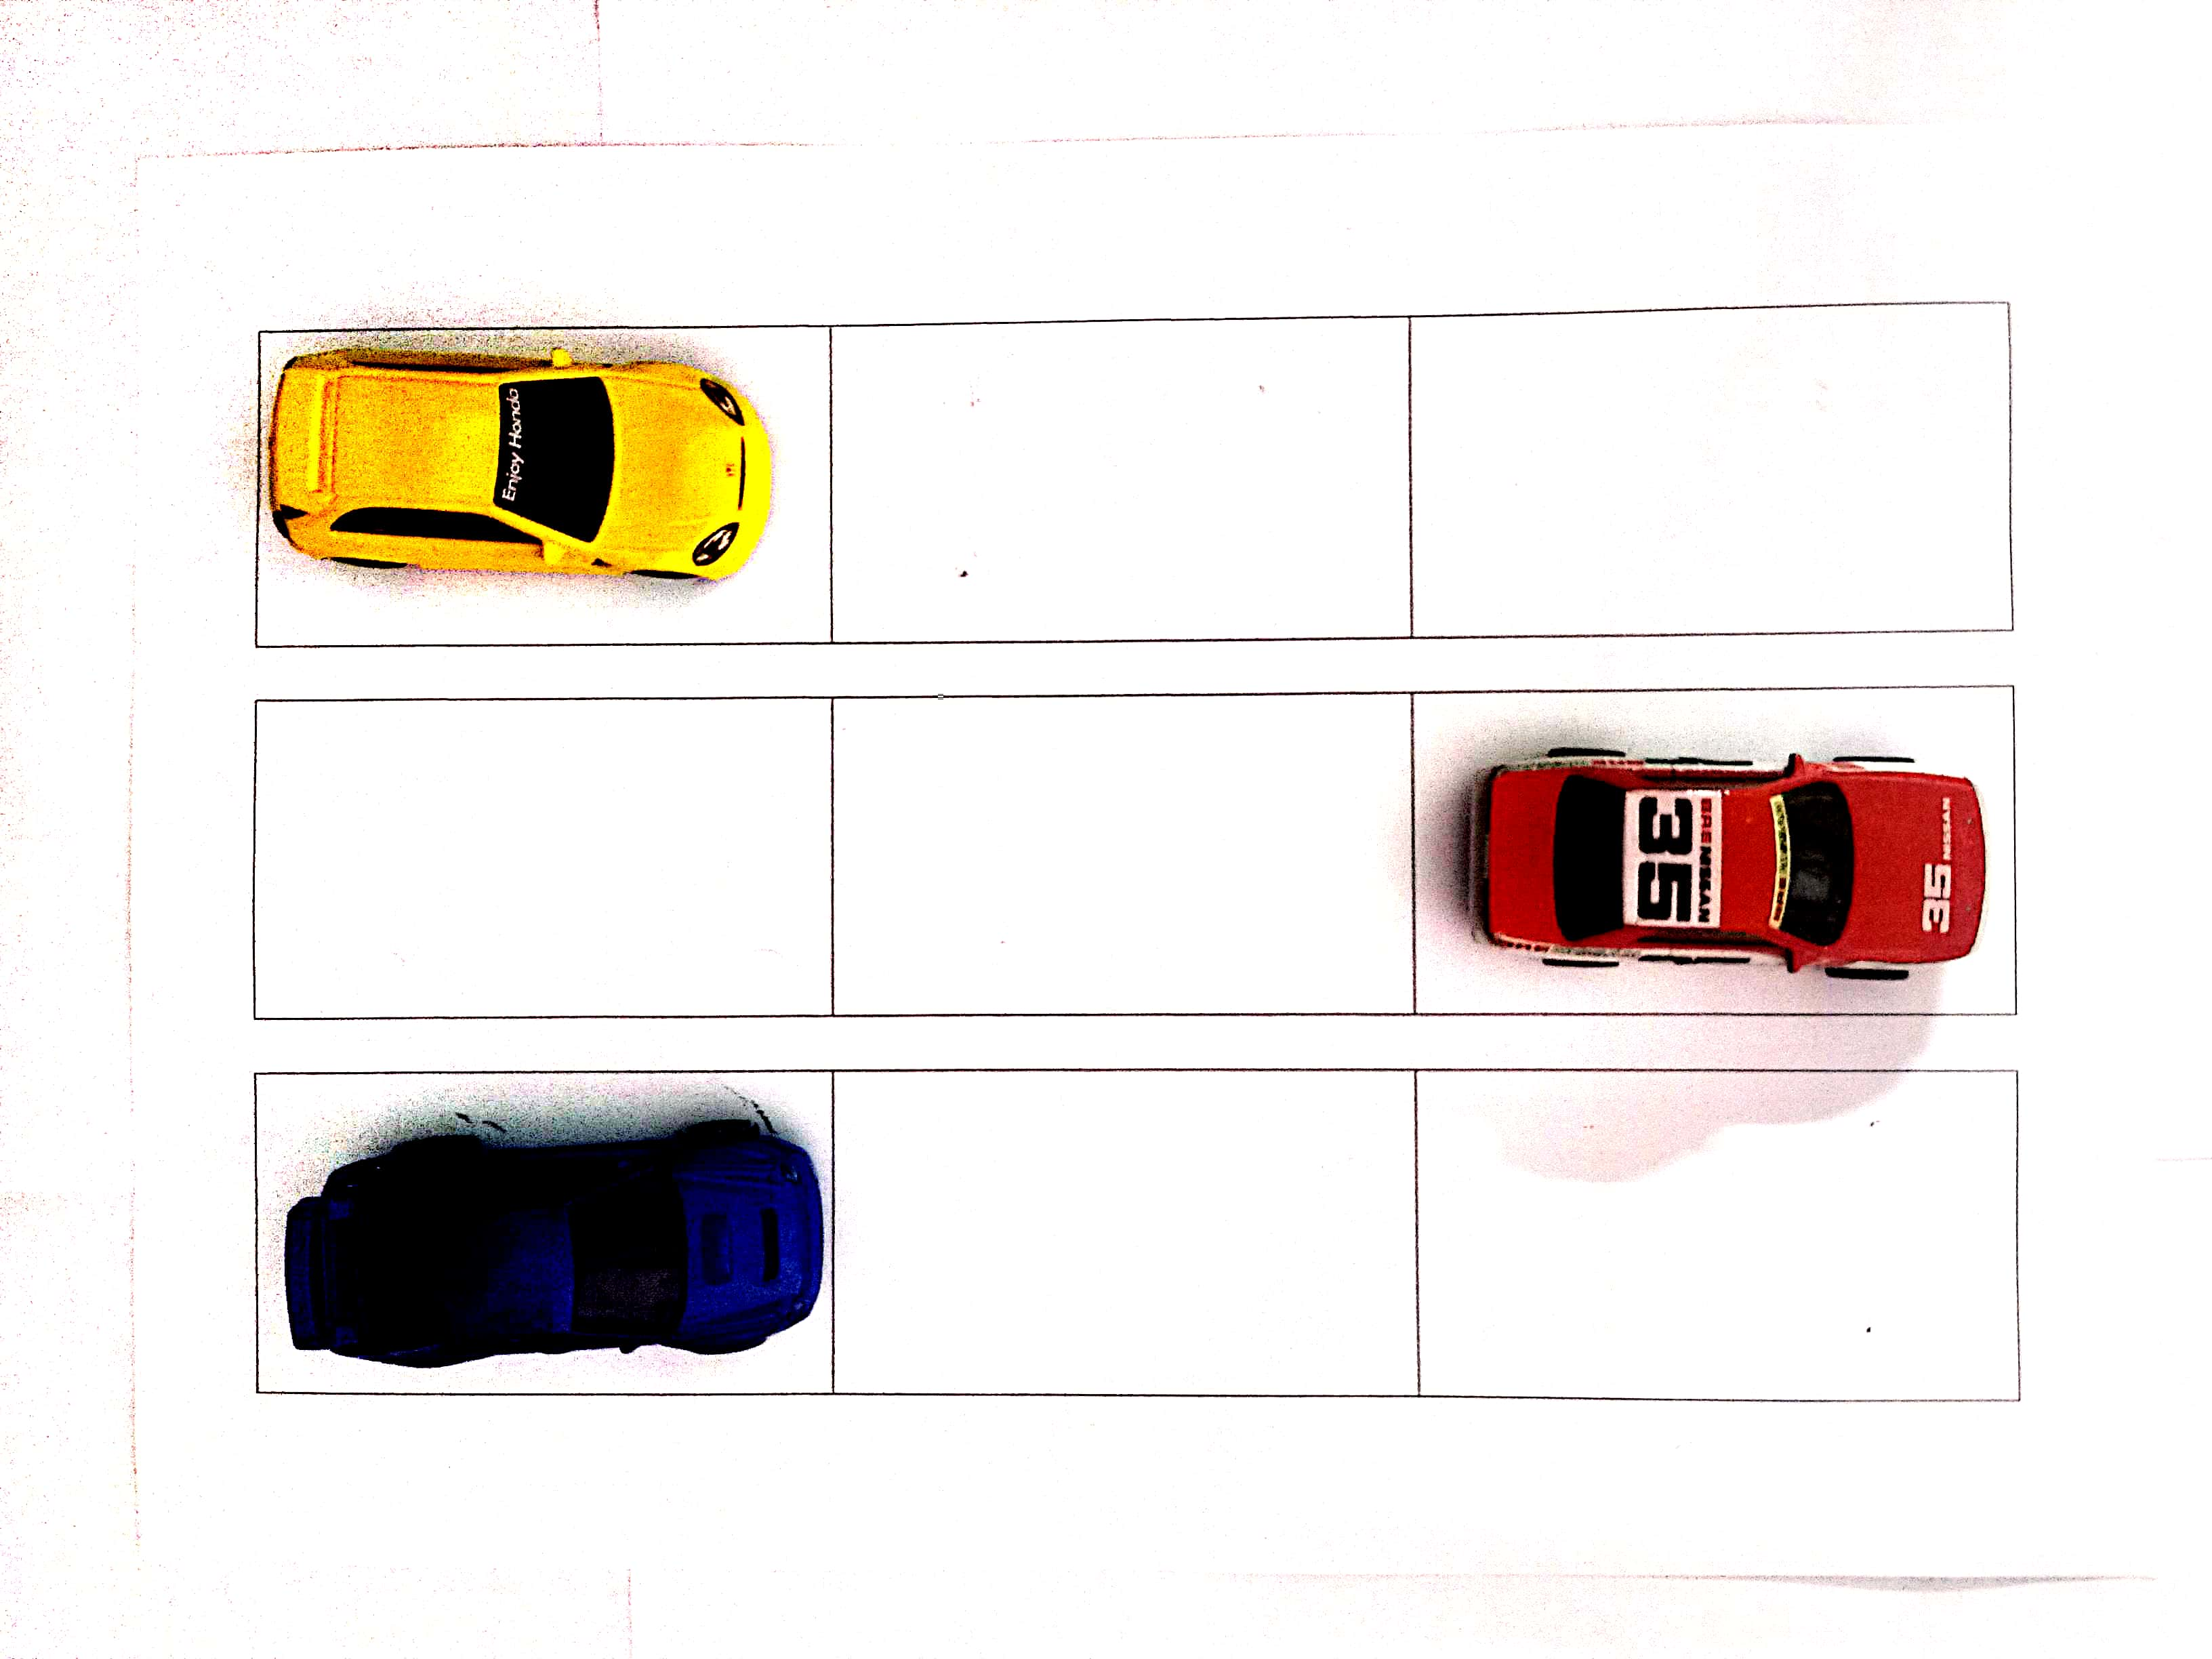Busy: (1418, 688, 2012, 1011), (260, 1077, 834, 1394), (260, 331, 829, 643)
Free: (1414, 1065, 2017, 1396), (1413, 303, 2012, 634), (827, 692, 1413, 1011), (833, 1073, 1414, 1391), (829, 317, 1409, 634), (254, 697, 829, 1011)
